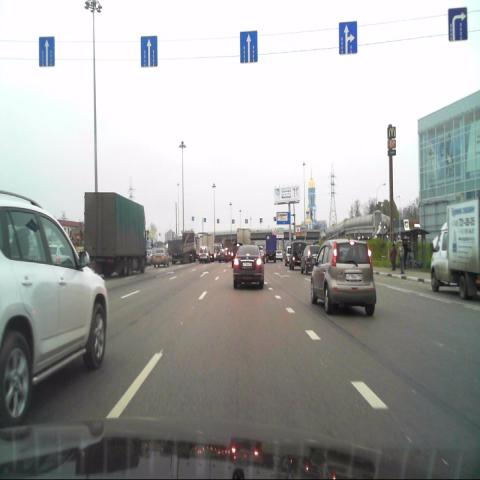5_15_2: (338, 21, 358, 54), (448, 6, 467, 40), (241, 31, 258, 62), (38, 37, 55, 67), (141, 36, 157, 66)
